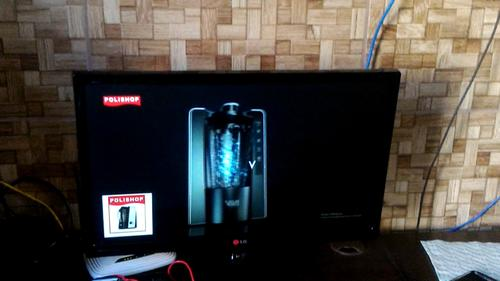Polishop #1: (102, 193, 153, 237)
